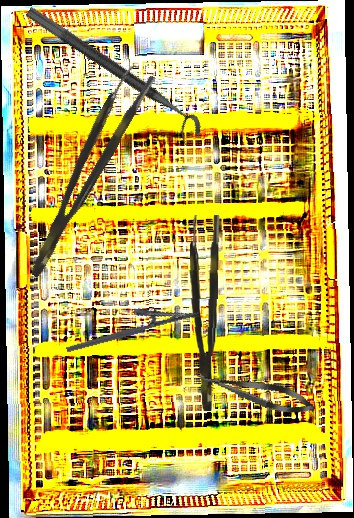Fixation Ring: (15, 5, 208, 149)
Micro Scissor: (191, 362, 319, 421)
Needle Holder: (60, 292, 201, 354)
Tissue Forceps: (12, 62, 157, 280), (184, 214, 221, 412)
